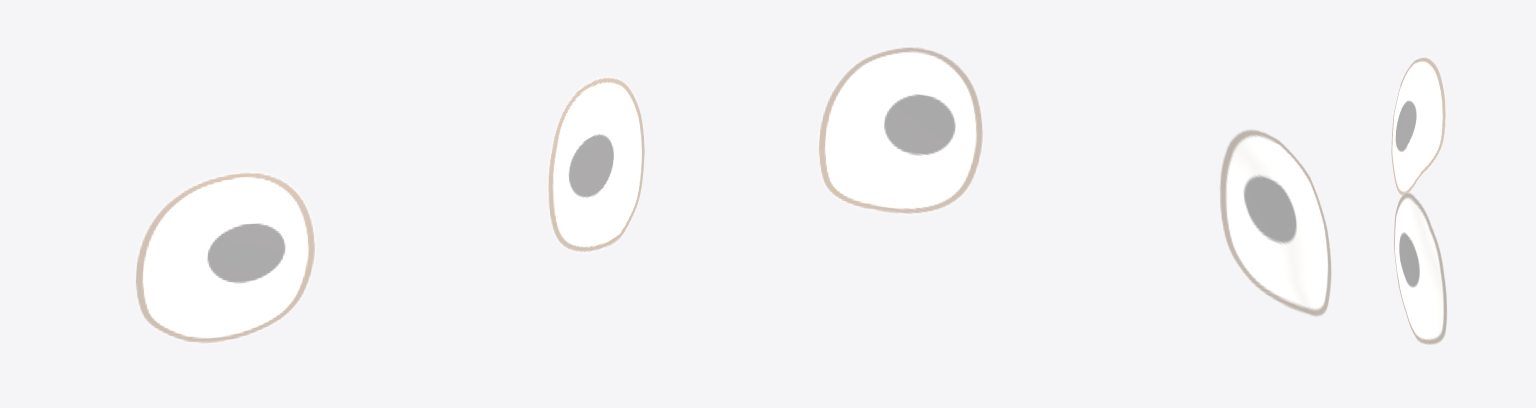
File: eye_04.glb
3 renders of one model, left to right at view 1: azimuth 30°, elevation 25°; view 2: azimuth 150°, elevation 25°; view 3: azimuth 270°, elevation 25°, orthographic. The views are drawn at different scales.
Visible parts, largest first — view 1: R_eye, L_eye; view 2: L_eye, R_eye; view 3: L_eye, R_eye.
Boxes of the visible parts, <box> form: R_eye: <box>134,170,316,344</box>; L_eye: <box>547,75,644,253</box>; L_eye: <box>817,46,983,215</box>; R_eye: <box>1219,128,1331,317</box>; L_eye: <box>1393,191,1447,345</box>; R_eye: <box>1391,56,1445,195</box>.
Size of the model in its own units: 0.00677 by 0.00271 by 0.00151.
1 material, 1 textured.
